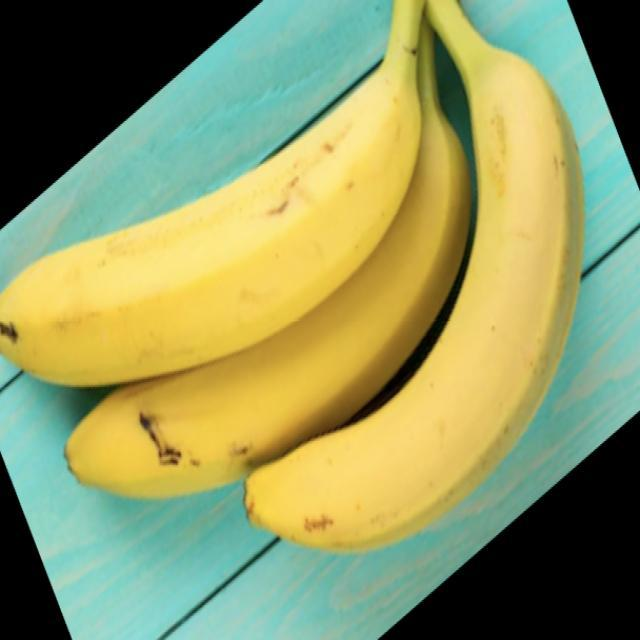Banana: (0, 4, 584, 553)
